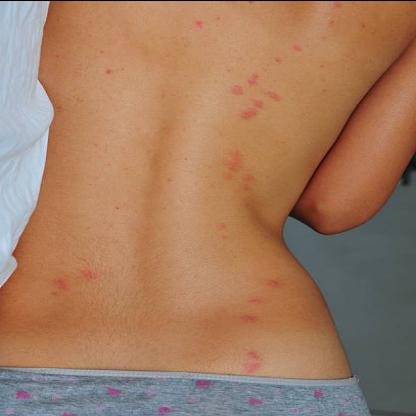Bed Bug: (216, 148, 258, 207), (238, 350, 268, 376), (239, 100, 267, 125), (216, 220, 236, 244), (54, 276, 74, 297), (80, 266, 102, 284), (102, 63, 124, 80), (245, 292, 266, 309), (226, 81, 247, 98), (246, 68, 264, 87), (235, 314, 264, 324), (326, 0, 350, 10), (269, 88, 285, 102), (194, 18, 212, 30), (290, 40, 306, 53), (266, 278, 286, 288), (324, 17, 340, 27), (272, 53, 284, 64), (246, 0, 264, 4)
